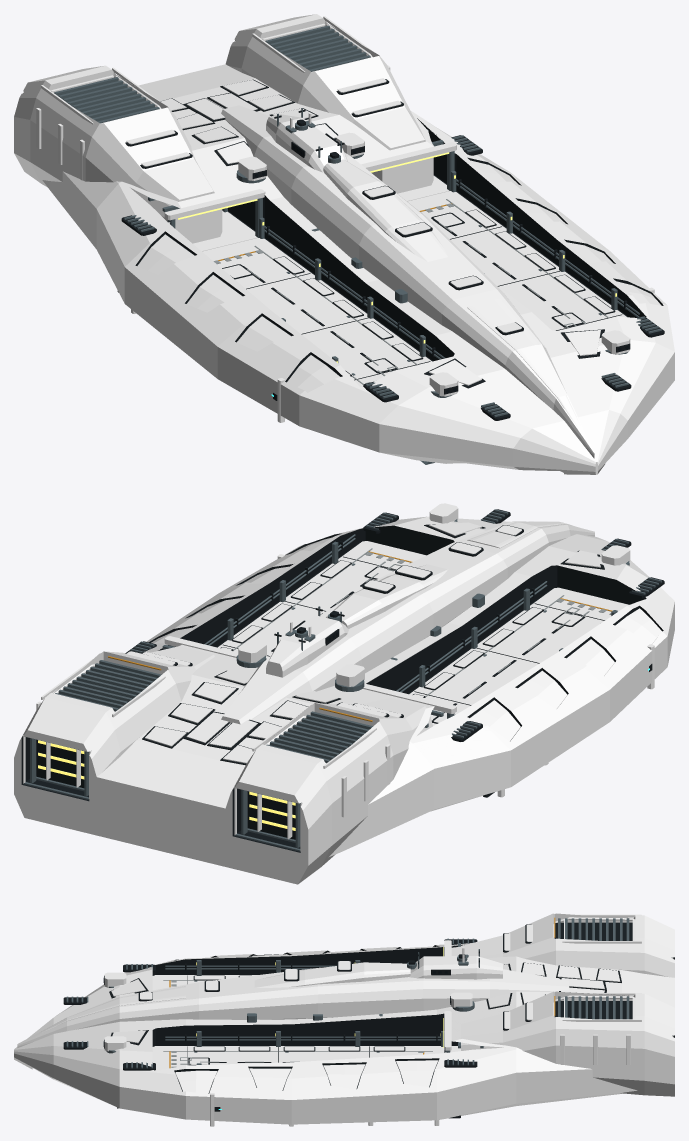
File: carrier-v28-intake-proposal.glb
3 views of the same model, one above another, from view 1: azimuth 30°, elevation 25°; view 2: azimuth 150°, elevation 25°; view 3: azimuth 270°, elevation 25° (orthographic). The views are drawn at different scales.
Parts seen in each view (by area): view 1: CarrierContinuousHull, MassiveAftEnginePod, LongArmoredCentralCitadel, RecessedFlightDeck, CitadelSensorTerrace, ForwardChineInlay, UncrewedSensorCrown, HangarArmoredLintel, HangarFloor, OuterRecessedServiceArmor.003, OuterRecessedServiceArmor.002, OuterRecessedServiceArmor (+6 smaller); view 2: CarrierContinuousHull, MassiveAftEnginePod, LongArmoredCentralCitadel, RecessedFlightDeck, CitadelSensorTerrace, EngineExhaustBack, UncrewedSensorCrown, BoardingRoofServicePanel, OuterRecessedServiceArmor.003, HangarArmoredLintel, OuterRecessedServiceArmor.002, OuterRecessedServiceArmor.001 (+20 smaller); view 3: CarrierContinuousHull, MassiveAftEnginePod, LongArmoredCentralCitadel, RecessedFlightDeck, CitadelSensorTerrace, EngineTopVentBed, UncrewedSensorCrown, ForwardChineInlay, OuterRecessedServiceArmor.003, OuterRecessedServiceArmor.002, OuterRecessedServiceArmor.001, OuterRecessedServiceArmor (+11 smaller).
Part boxes in pixels (x1=…): CarrierContinuousHull: x1=42, y1=64, x2=674, y2=474; MassiveAftEnginePod: x1=14, y1=14, x2=433, y2=243; LongArmoredCentralCitadel: x1=221, y1=105, x2=594, y2=458; RecessedFlightDeck: x1=202, y1=191, x2=626, y2=386; CitadelSensorTerrace: x1=323, y1=159, x2=447, y2=261; ForwardChineInlay: x1=467, y1=299, x2=580, y2=427; UncrewedSensorCrown: x1=266, y1=114, x2=347, y2=172; HangarArmoredLintel: x1=164, y1=142, x2=456, y2=220; HangarFloor: x1=193, y1=176, x2=449, y2=251; OuterRecessedServiceArmor.003: x1=137, y1=160, x2=517, y2=274; OuterRecessedServiceArmor.002: x1=187, y1=201, x2=565, y2=312; OuterRecessedServiceArmor: x1=287, y1=281, x2=661, y2=392; CarrierContinuousHull: x1=25, y1=516, x2=674, y2=875; MassiveAftEnginePod: x1=14, y1=646, x2=432, y2=884; LongArmoredCentralCitadel: x1=221, y1=521, x2=594, y2=724; RecessedFlightDeck: x1=218, y1=541, x2=628, y2=725; CitadelSensorTerrace: x1=326, y1=564, x2=447, y2=628; EngineExhaustBack: x1=36, y1=739, x2=295, y2=839; UncrewedSensorCrown: x1=266, y1=615, x2=348, y2=677; BoardingRoofServicePanel: x1=186, y1=712, x2=257, y2=747; OuterRecessedServiceArmor.003: x1=151, y1=627, x2=520, y2=741; HangarArmoredLintel: x1=164, y1=636, x2=456, y2=713; OuterRecessedServiceArmor.002: x1=194, y1=598, x2=567, y2=709; OuterRecessedServiceArmor.001: x1=243, y1=566, x2=614, y2=675; CarrierContinuousHull: x1=14, y1=943, x2=674, y2=1124; MassiveAftEnginePod: x1=461, y1=913, x2=674, y2=1096; LongArmoredCentralCitadel: x1=17, y1=967, x2=569, y2=1047; RecessedFlightDeck: x1=152, y1=975, x2=444, y2=1070; CitadelSensorTerrace: x1=254, y1=962, x2=410, y2=987; EngineTopVentBed: x1=554, y1=922, x2=632, y2=1019; UncrewedSensorCrown: x1=409, y1=956, x2=502, y2=979; ForwardChineInlay: x1=39, y1=986, x2=185, y2=1033; OuterRecessedServiceArmor.003: x1=396, y1=946, x2=438, y2=1087; OuterRecessedServiceArmor.002: x1=323, y1=950, x2=365, y2=1088; OuterRecessedServiceArmor.001: x1=249, y1=954, x2=291, y2=1090; OuterRecessedServiceArmor: x1=175, y1=1070, x2=217, y2=1093.
Bounding box in the file's own units: 26 × 11 × 50.
